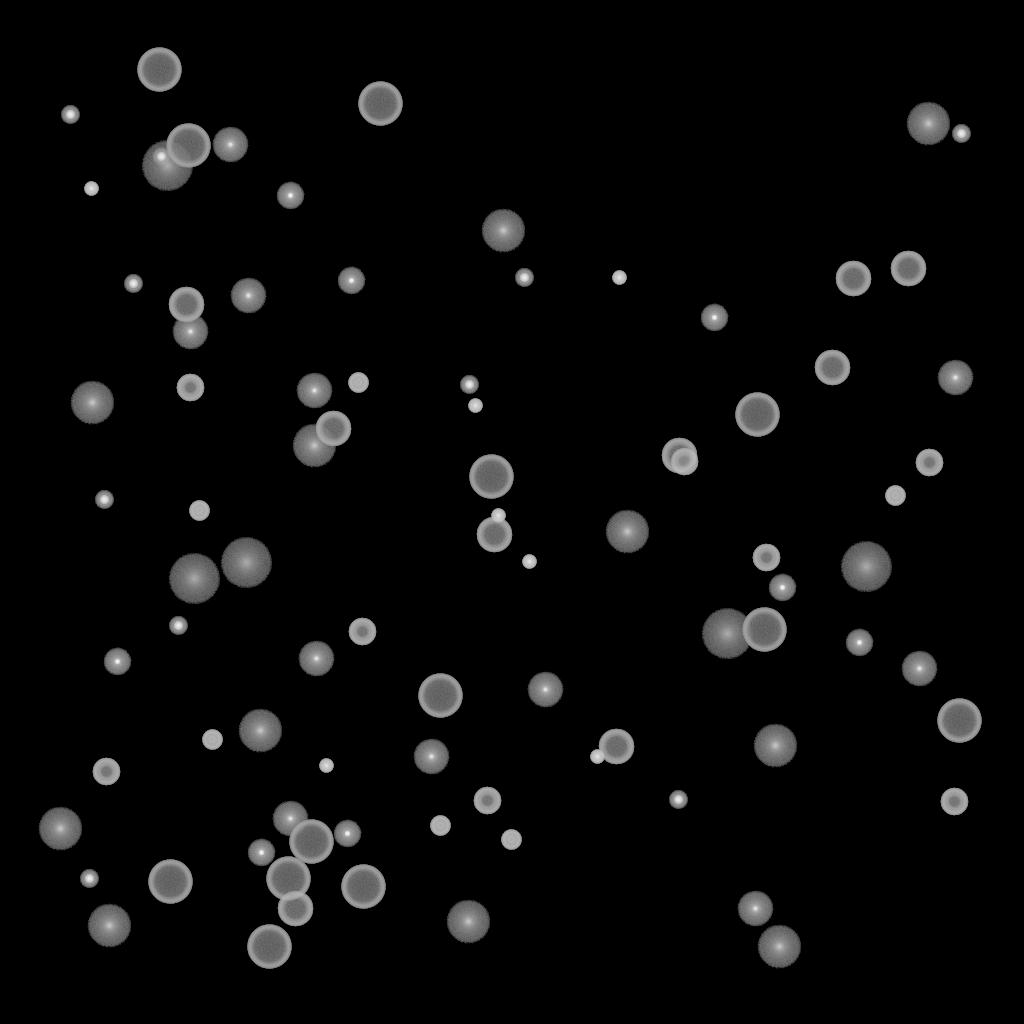depth:-10: (276, 182, 304, 210), (103, 648, 131, 676), (845, 629, 873, 657), (768, 574, 796, 602), (700, 304, 728, 332), (333, 820, 361, 848), (337, 267, 365, 295), (247, 839, 275, 867)
depth:-20: (669, 791, 687, 809), (61, 106, 79, 124), (952, 125, 970, 143), (515, 269, 533, 287), (152, 148, 170, 166), (124, 275, 142, 293), (95, 491, 113, 509), (169, 617, 187, 635), (80, 870, 98, 888), (460, 376, 478, 394)
depth:-30: (84, 182, 98, 196), (468, 399, 482, 413), (491, 509, 505, 523), (319, 759, 333, 773), (612, 271, 626, 285), (590, 750, 604, 764), (522, 555, 536, 569)
depth:-40: (202, 730, 222, 750), (189, 501, 209, 521), (430, 816, 450, 836), (885, 486, 905, 506), (501, 830, 521, 850), (348, 373, 368, 393)
depth:-50: (473, 787, 501, 815), (915, 449, 943, 477), (940, 788, 968, 816), (348, 618, 376, 646), (92, 758, 120, 786), (752, 544, 780, 572), (176, 374, 204, 402), (670, 448, 698, 476)
depth:-60: (890, 251, 926, 287), (277, 891, 313, 927), (661, 438, 697, 474), (476, 517, 512, 553), (168, 287, 204, 323), (835, 261, 871, 297), (598, 729, 634, 765), (814, 350, 850, 386), (315, 411, 351, 447)
depth:-70: (148, 860, 192, 904), (418, 674, 462, 718), (266, 857, 310, 901), (742, 608, 786, 652), (358, 82, 402, 126), (166, 124, 210, 168), (247, 925, 291, 969), (735, 393, 779, 437), (289, 820, 333, 864), (469, 455, 513, 499), (937, 699, 981, 743), (137, 48, 181, 92), (341, 865, 385, 909)
depth:0: (172, 314, 208, 350), (230, 278, 266, 314), (413, 739, 449, 775), (737, 891, 773, 927), (296, 373, 332, 409), (298, 641, 334, 677), (272, 801, 308, 837), (527, 672, 563, 708), (937, 360, 973, 396), (212, 127, 248, 163), (901, 651, 937, 687)
depth:10: (292, 424, 336, 468), (87, 904, 131, 948), (757, 925, 801, 969), (446, 900, 490, 944), (238, 709, 282, 753), (906, 102, 950, 146), (753, 724, 797, 768), (70, 381, 114, 425), (38, 807, 82, 851), (605, 510, 649, 554), (481, 209, 525, 253)
depth:20: (840, 542, 892, 592), (220, 538, 272, 588), (168, 554, 220, 604), (701, 609, 753, 659), (141, 141, 193, 191)
